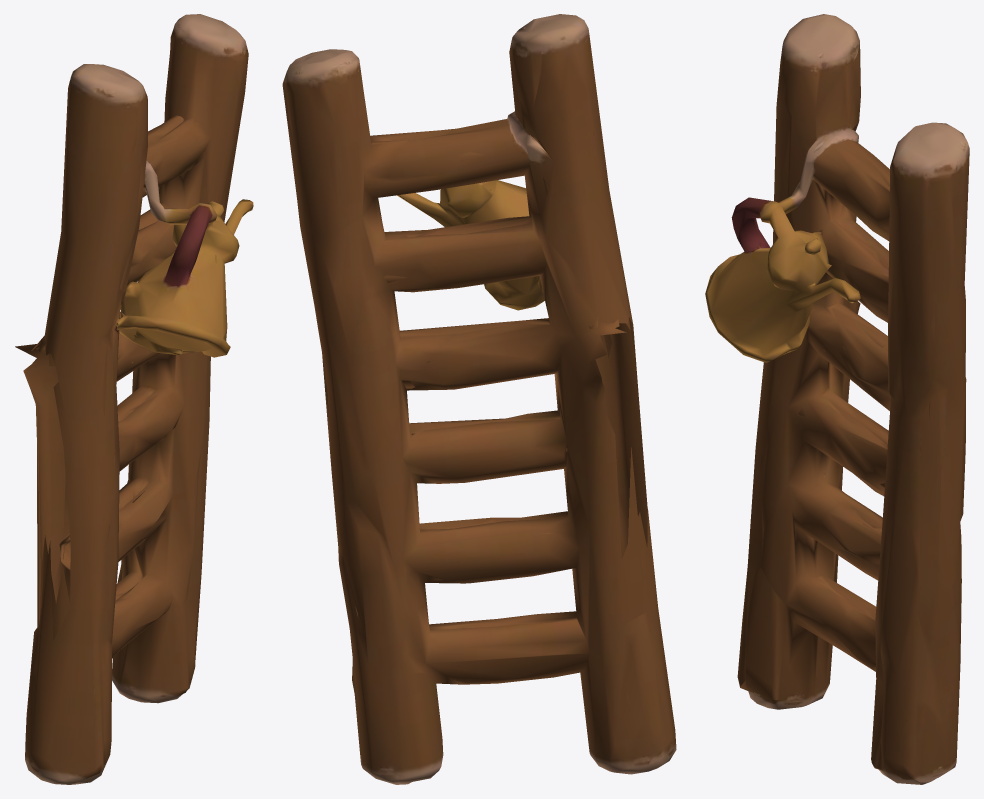
File: jarek-ladder.glb
The picture shows the model from 3 angles, left to right: view 1: azimuth 30°, elevation 25°; view 2: azimuth 150°, elevation 25°; view 3: azimuth 270°, elevation 25°; orthographic projection. The views are drawn at different scales.
Bounding box in the file's own units: 1.04 × 2.41 × 0.8262.
Materials: 1 (1 with a texture image).
